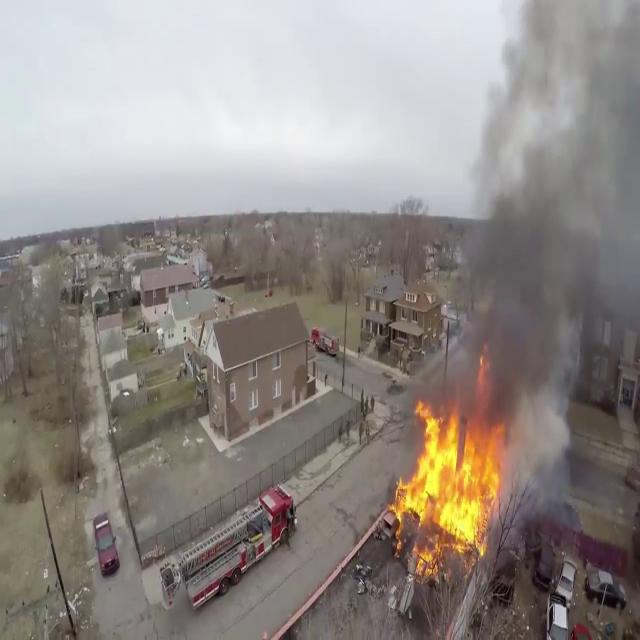Fire: (382, 398, 512, 574)
Smoke: (429, 0, 640, 438)
